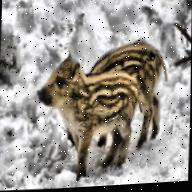boar: (37, 58, 152, 190), (85, 36, 190, 152)
